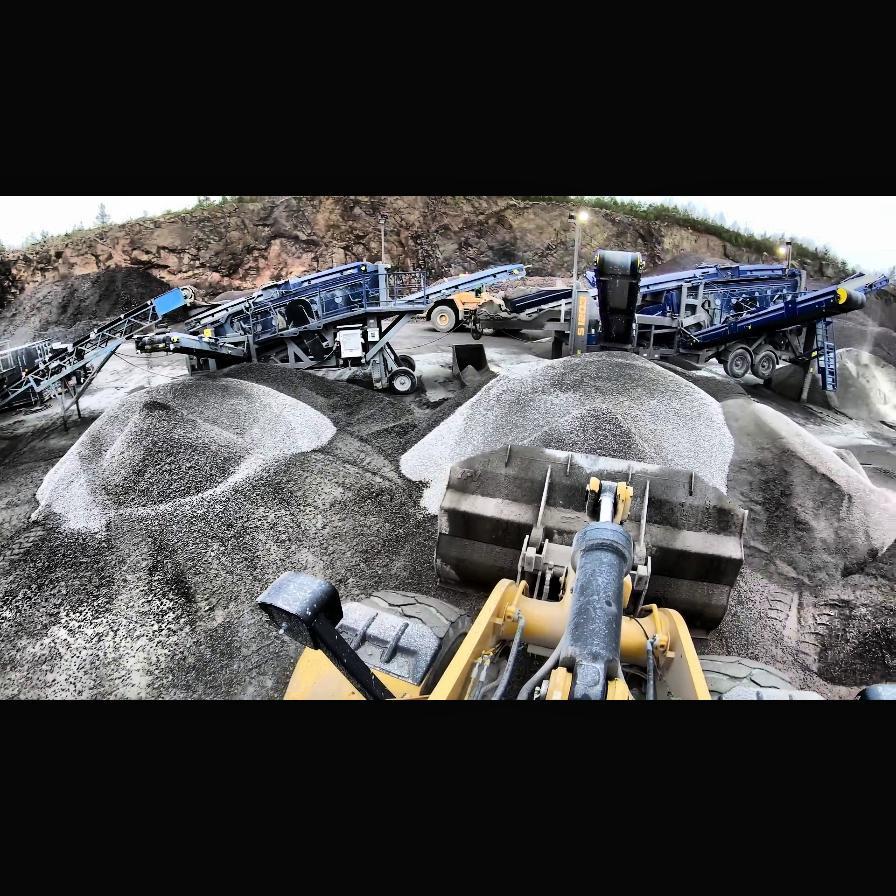anchor: (589, 477, 633, 525)
pile of gravel: (400, 346, 896, 612), (24, 362, 410, 528), (412, 344, 700, 500), (0, 265, 190, 349), (808, 350, 896, 430)
